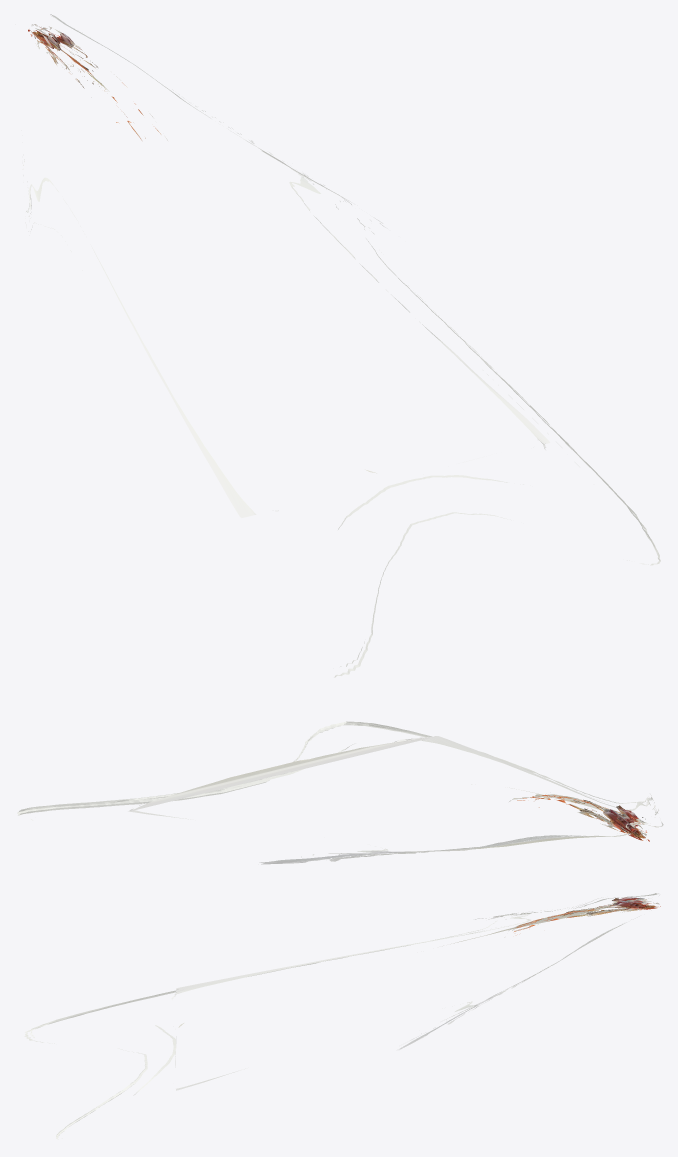
Rendered from intro-slide-2_640x360-3b508bff587f.glb.
3 views of the same model, one above another, from view 1: azimuth 30°, elevation 25°; view 2: azimuth 210°, elevation 25°; view 3: azimuth 270°, elevation 25° (orthographic). The views are drawn at different scales.
Visible parts, largest first — view 1: mesh0; view 2: mesh0; view 3: mesh0.
Boxes of the visible parts, x1,y1,x2,y2 form: mesh0: (23, 14, 660, 677); mesh0: (17, 721, 663, 864); mesh0: (24, 893, 660, 1139).
Bounding box in the file's own units: 11.57 × 8.43 × 25.58.
Materials: 1 (1 with a texture image).
